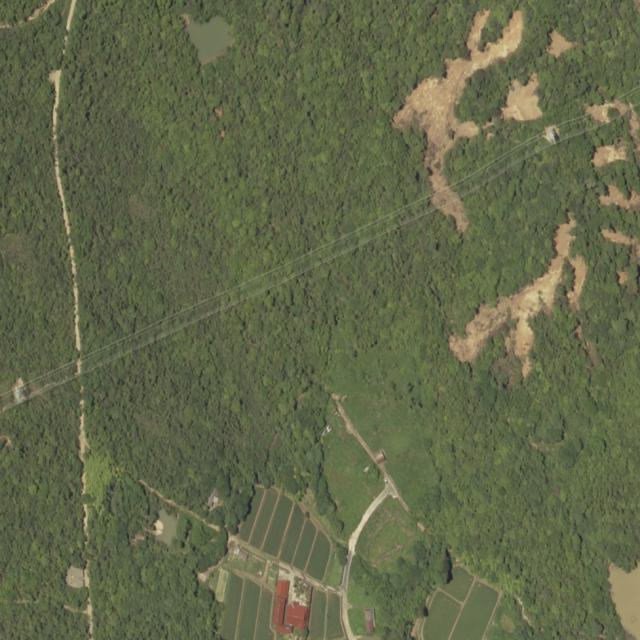landslide: (392, 9, 523, 232), (449, 220, 576, 377)
